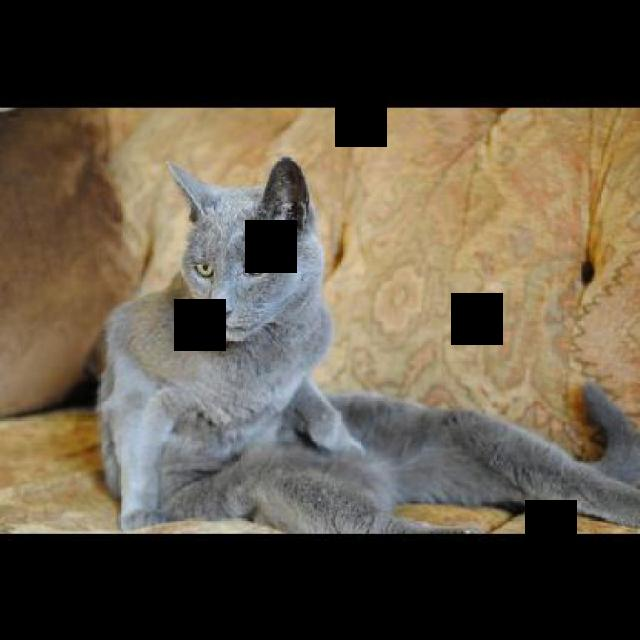unauthorized: (92, 155, 638, 534)
